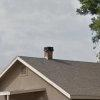Chimney: (37, 41, 57, 62)
